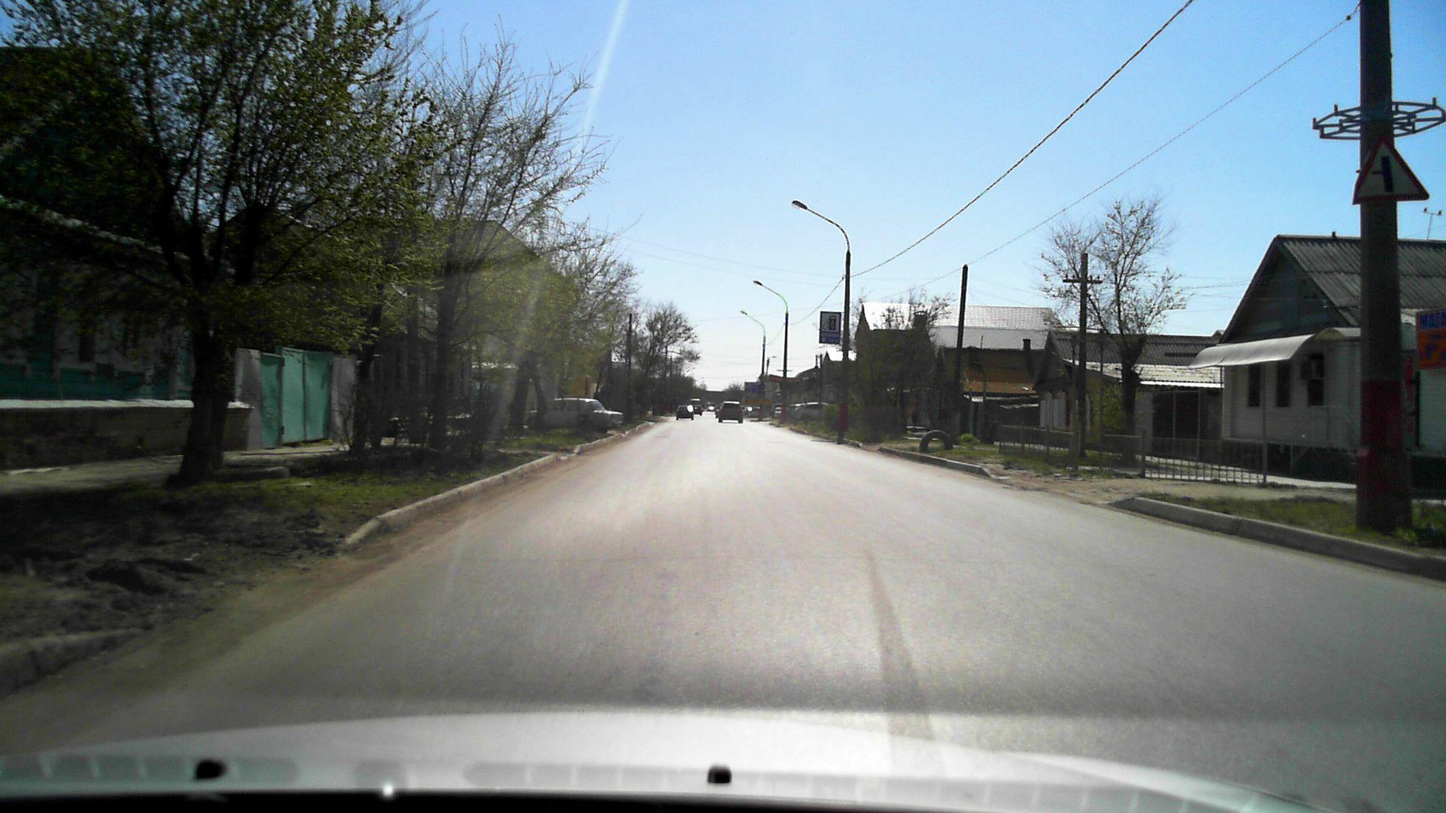road_sign: (1348, 132, 1434, 207)
